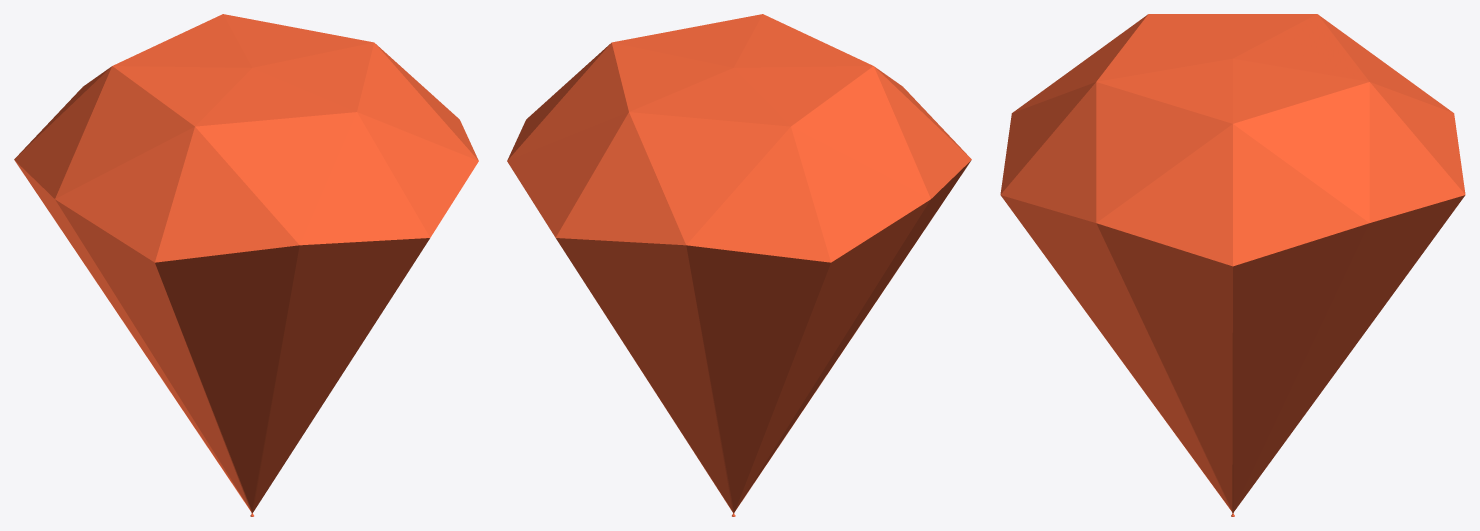
File: red_crystal.fbx
3 renders of one model, left to right at view 1: azimuth 30°, elevation 25°; view 2: azimuth 150°, elevation 25°; view 3: azimuth 270°, elevation 25°, orthographic. The views are drawn at different scales.
Parts seen in each view (by area): view 1: Icosphere.002; view 2: Icosphere.002; view 3: Icosphere.002.
Part boxes in pixels (x1,y1,x2,y2): Icosphere.002: [14, 14, 478, 516]; Icosphere.002: [507, 14, 971, 516]; Icosphere.002: [1000, 14, 1465, 516].
Size of the model in its own units: 175 by 185 by 170.
